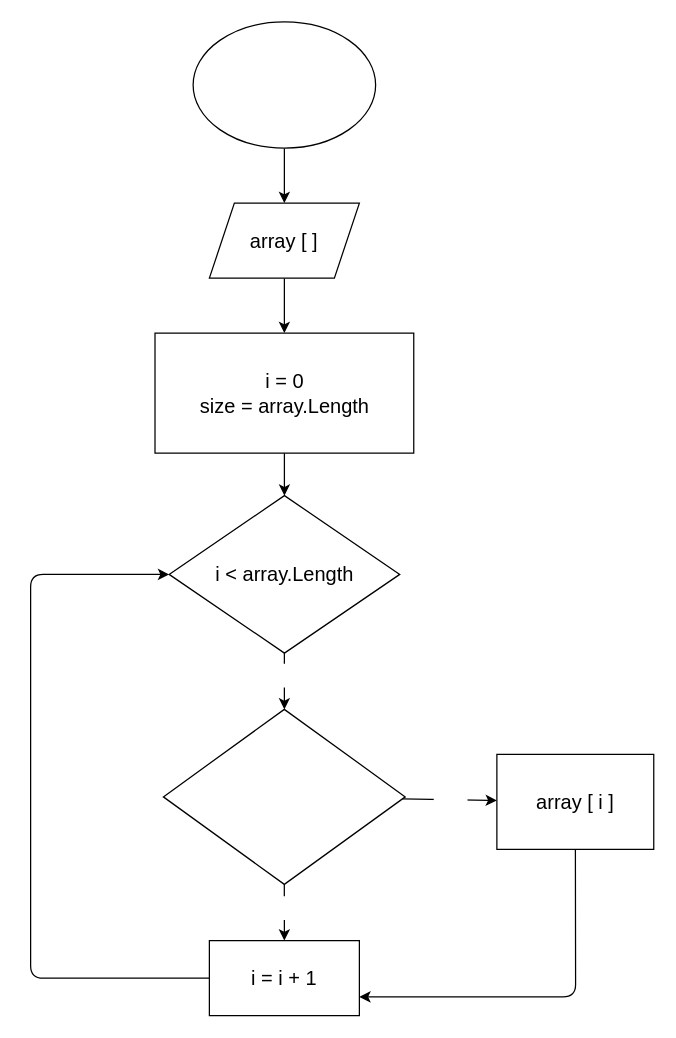
This 676x1038 diagram has some shape labels left out. The shapes that lost their labels are listed below. From the top down, each one's box as (x1, y1, x2, y2) in pixels, then its label:
(192, 21, 376, 148): Start
(162, 708, 405, 884): array [ i ].Length < = 3
